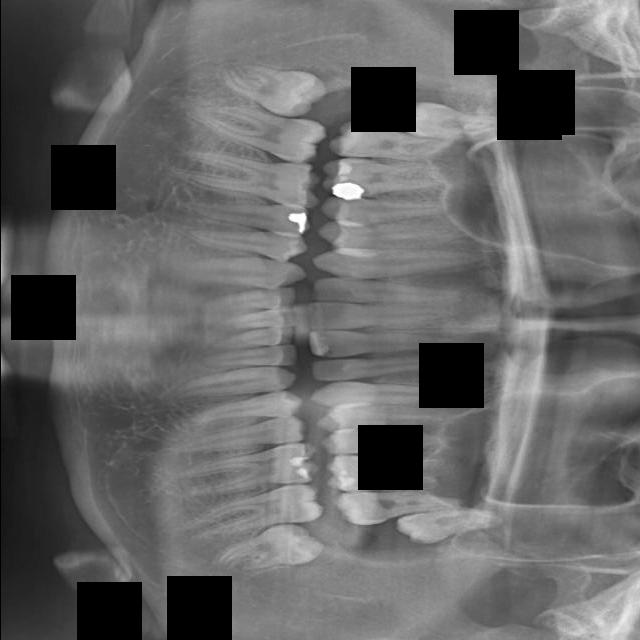3M ESPE Implant: (395, 96, 509, 151)
AGS Medikal Implant: (179, 479, 326, 546)
AMerOss Implant: (172, 441, 322, 501)
Amalgam filling: (328, 119, 441, 162)
Anthogyr Implant: (168, 415, 309, 455)
Bicon Implant: (186, 390, 303, 426)
BioHorizons Implant: (162, 362, 299, 404)
BioLife Implant: (193, 343, 299, 376)
Biomet 3i Implant: (207, 324, 297, 354)
Blue Sky Bio Implant: (211, 307, 299, 335)
Camlog Implant: (195, 283, 300, 322)
Caries: (309, 352, 466, 383)
Composite filling: (164, 250, 307, 291)
Cowellmedi Implant: (186, 229, 307, 261)
Crown: (171, 194, 312, 234)
DENTSPLY Implant: (321, 159, 446, 197)
Dentatus Implant: (171, 148, 324, 210)
Dentis Implant: (198, 113, 199, 113)
Dentium Implant: (233, 67, 235, 69)
Euroteknika Implant: (319, 196, 458, 228)
Filling: (313, 221, 471, 253)
Frontier Implant: (312, 247, 488, 278)
Hiossen Implant: (308, 380, 489, 409)
Implant: (305, 301, 461, 329)
Implant Direct: (309, 277, 469, 308)
Keystone Dental Implant: (307, 329, 461, 357)
MIS Implant: (316, 395, 460, 434)
Mandible: (319, 428, 454, 456)
Maxilla: (326, 456, 447, 491)
Megagen Implant: (409, 501, 429, 504)
Neodent Implant: (393, 503, 507, 548)
Neoss Implant: (211, 519, 328, 575)
